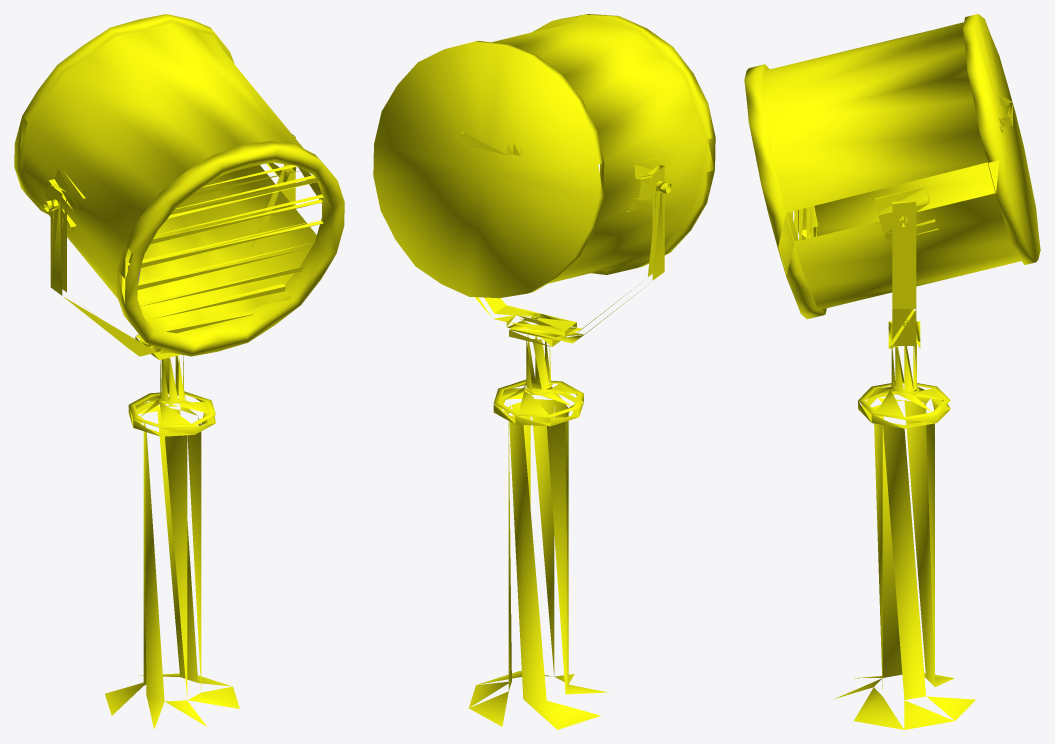
File: searchlight.glb
3 views of the same model, side by side, from view 1: azimuth 30°, elevation 25°; view 2: azimuth 150°, elevation 25°; view 3: azimuth 270°, elevation 25° (orthographic). The views are drawn at different scales.
Visible parts, largest first — view 1: Seacrh_Light; view 2: Seacrh_Light; view 3: Seacrh_Light.
Part boxes in pixels (x1=…): Seacrh_Light: x1=14, y1=14, x2=344, y2=729; Seacrh_Light: x1=373, y1=14, x2=715, y2=729; Seacrh_Light: x1=744, y1=14, x2=1040, y2=729.
Bounding box in the file's own units: 0.0181 × 0.0453 × 0.0181.
